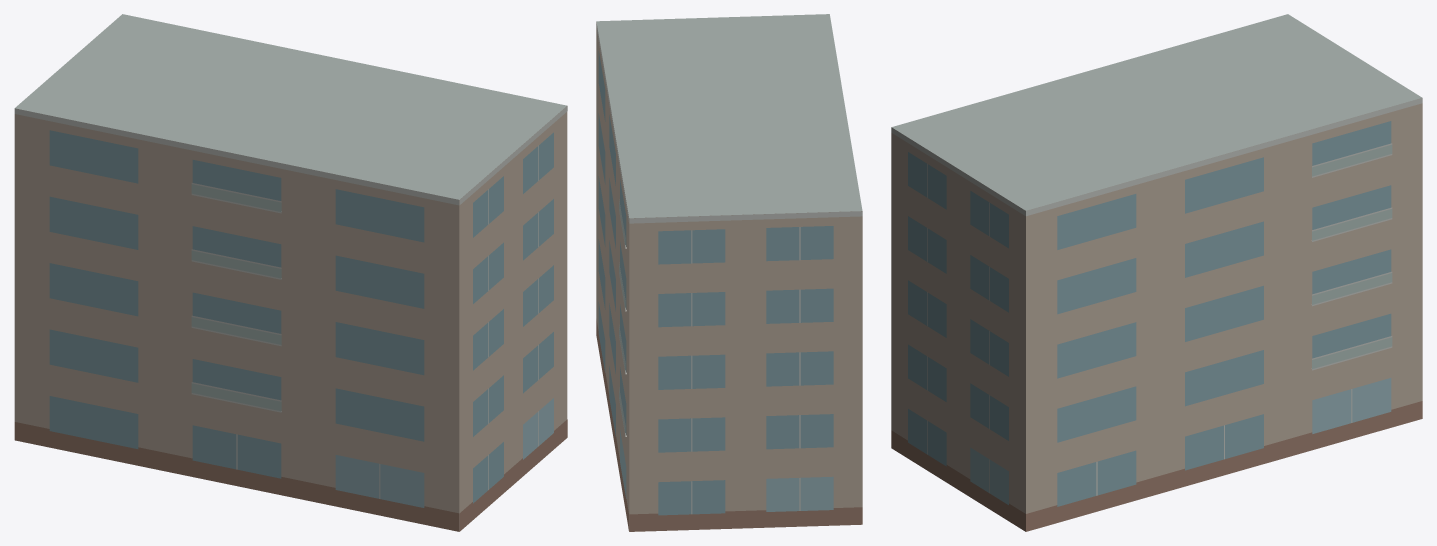
File: survey-upis-32657956.glb
3 renders of one model, left to right at view 1: azimuth 30°, elevation 25°; view 2: azimuth 150°, elevation 25°; view 3: azimuth 270°, elevation 25°, orthographic. The views are drawn at different scales.
Visible parts, largest first — view 1: survey-upis-32657956.tmp; view 2: survey-upis-32657956.tmp; view 3: survey-upis-32657956.tmp.
Boxes of the visible parts, box(x1,y1,x2,y2) form: survey-upis-32657956.tmp: box(14, 14, 567, 531); survey-upis-32657956.tmp: box(596, 14, 862, 531); survey-upis-32657956.tmp: box(891, 14, 1422, 531).
Bounding box in the file's own units: 18.82 × 14.3 × 21.45.
